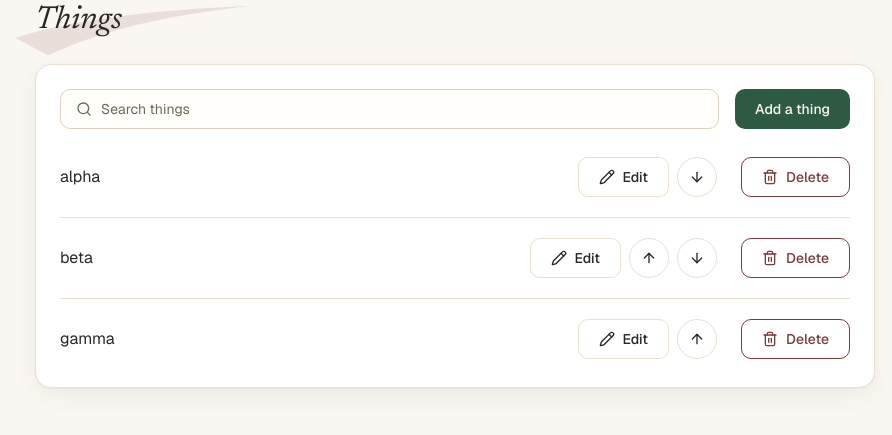
ItemList › search › filters items by case-insensitive substring, keeping order
This screenshot has width=892, height=435.
Type "A" into the search field labelled "Search things".
click(390, 109); type("A")  # box [60, 89, 719, 129]
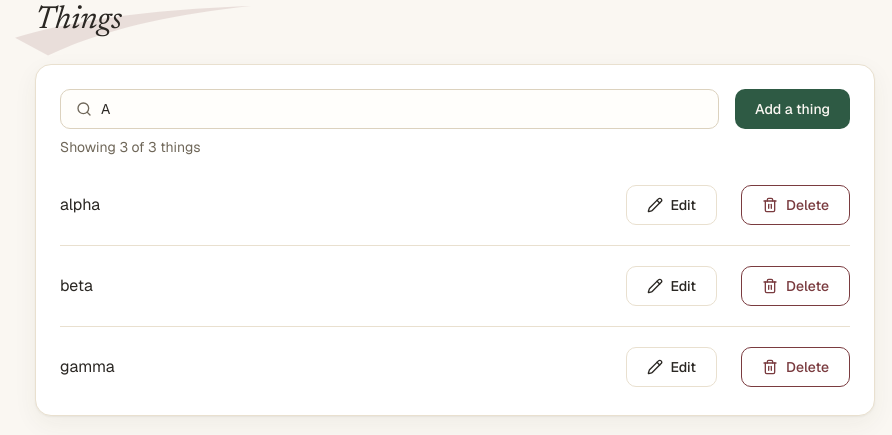
Now the number of buttons "Delete" is 3, box [741, 185, 850, 225]; [741, 266, 850, 306]; [741, 347, 850, 387]
Replace the text in the search field named "Search things" with "LPH" at (390, 109), box [60, 89, 719, 129]
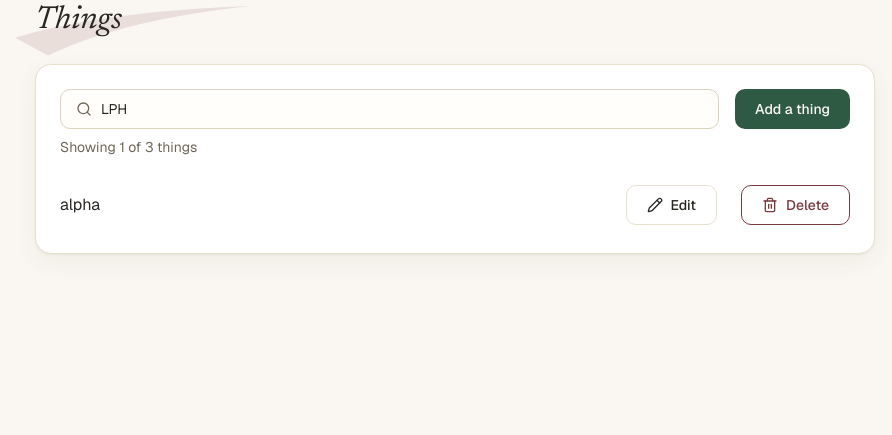
Expected: the text "alpha" is shown, [60, 194, 100, 215]
Now the text "beta" is gone
Now the text "gamma" is gone
